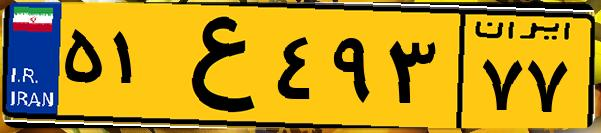1: (110, 28, 158, 98)
3: (385, 28, 445, 110)
4: (270, 28, 330, 110)
5: (57, 26, 110, 100)
7: (475, 38, 525, 113), (525, 38, 570, 115)
9: (330, 28, 385, 110)
ع: (158, 12, 270, 120)
